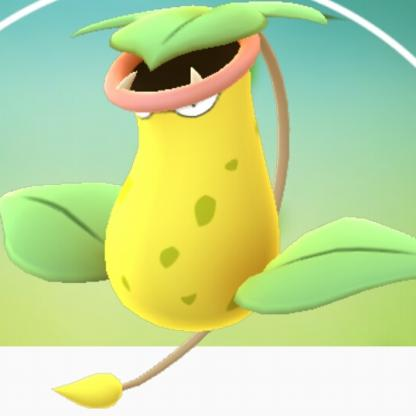Victreebel: (28, 1, 416, 327)
